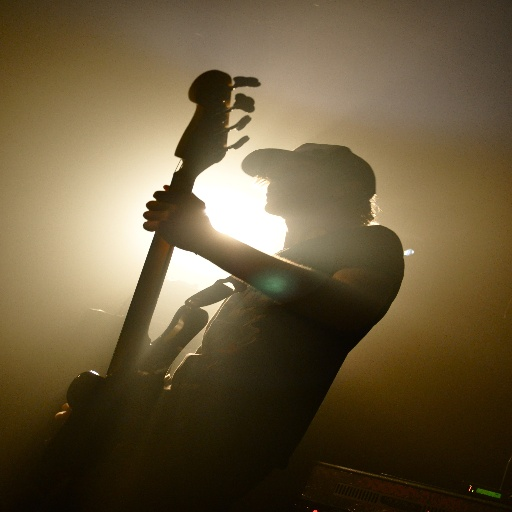hand: (142, 182, 213, 253), (51, 402, 77, 424)
